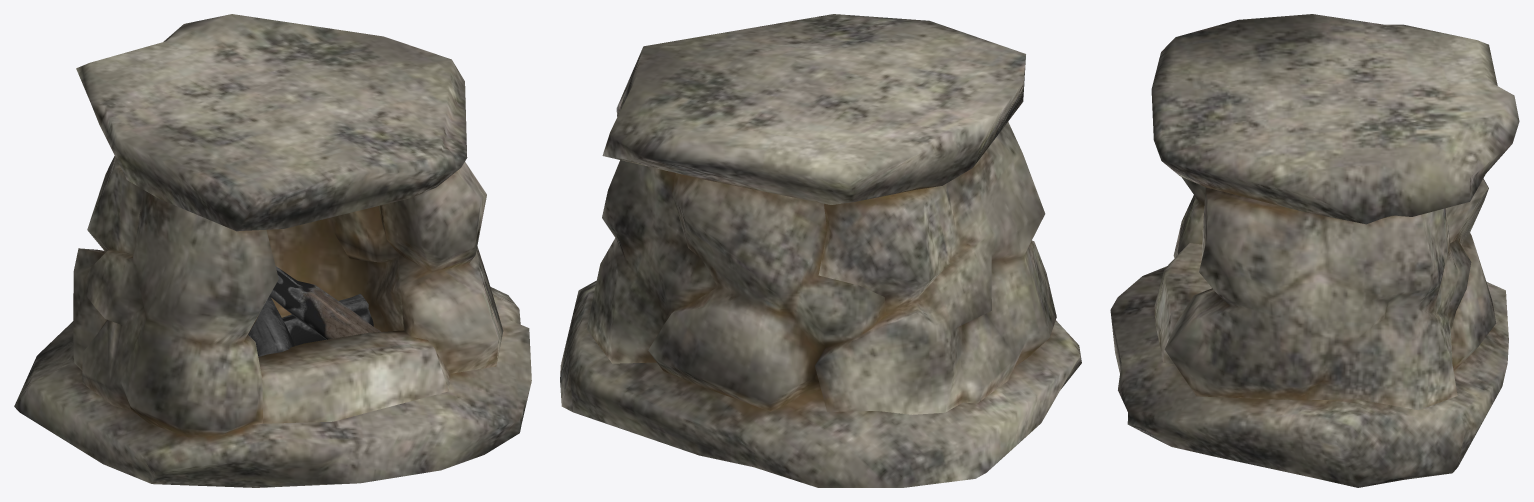
File: fireplace_comfort1_t0.glb
The picture shows the model from 3 angles, left to right: view 1: azimuth 30°, elevation 25°; view 2: azimuth 150°, elevation 25°; view 3: azimuth 270°, elevation 25°; orthographic projection. The views are drawn at different scales.
Parts seen in each view (by area): view 1: stone_fireplace_00; view 2: stone_fireplace_00; view 3: stone_fireplace_00.
Boxes of the visible parts, x1=… form: stone_fireplace_00: x1=14, y1=14, x2=531, y2=487; stone_fireplace_00: x1=560, y1=14, x2=1081, y2=487; stone_fireplace_00: x1=1110, y1=14, x2=1519, y2=487.
Size of the model in its own units: 1.34 by 0.9195 by 1.14.
Materials: 2 (2 with a texture image).
